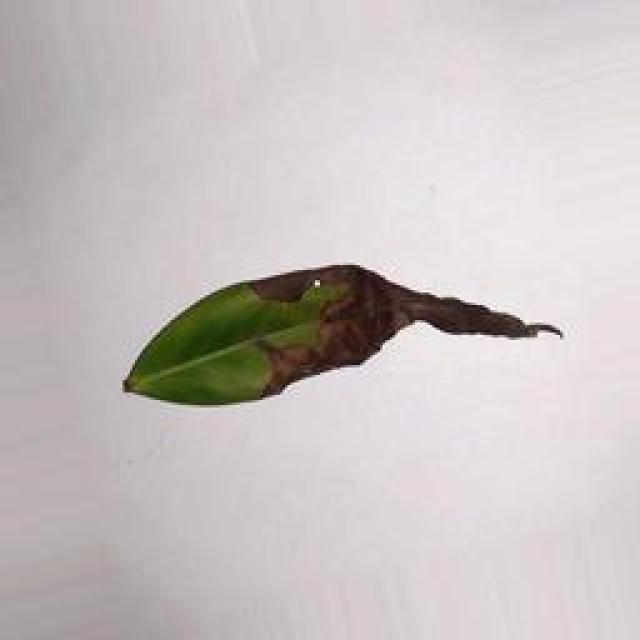Brown Blight: (30, 253, 580, 415)
